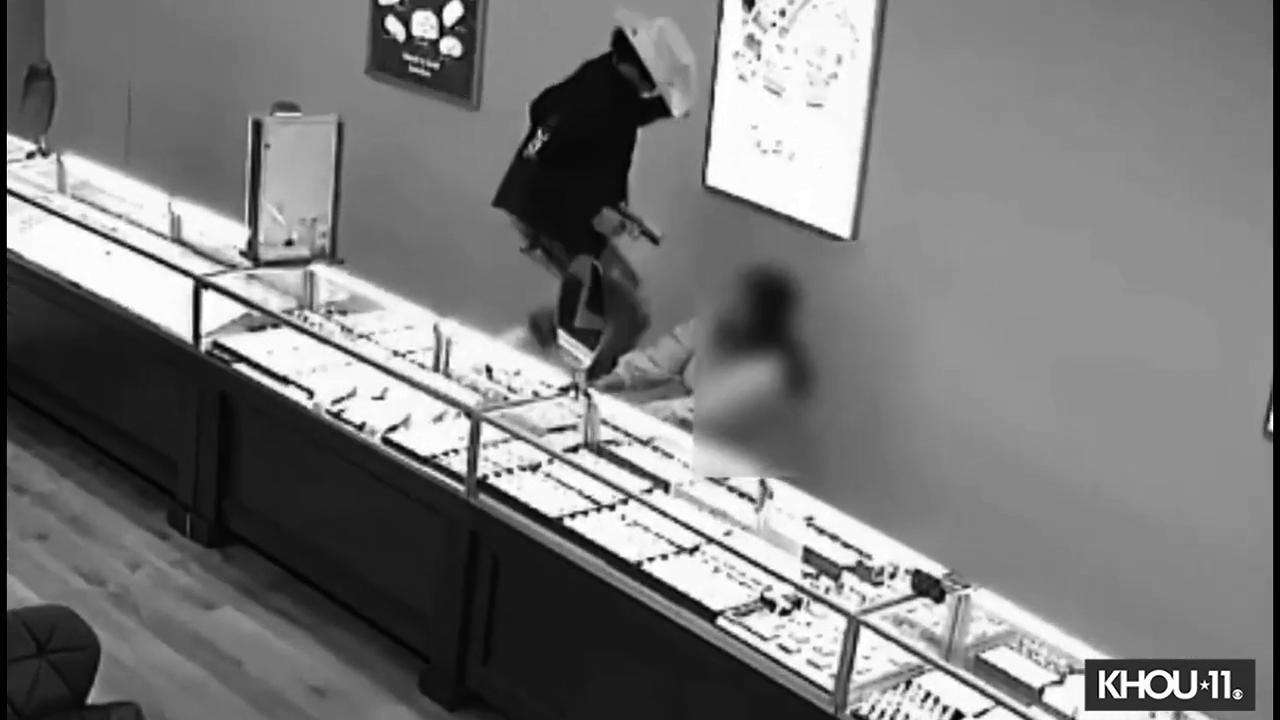melee: (568, 180, 660, 254)
